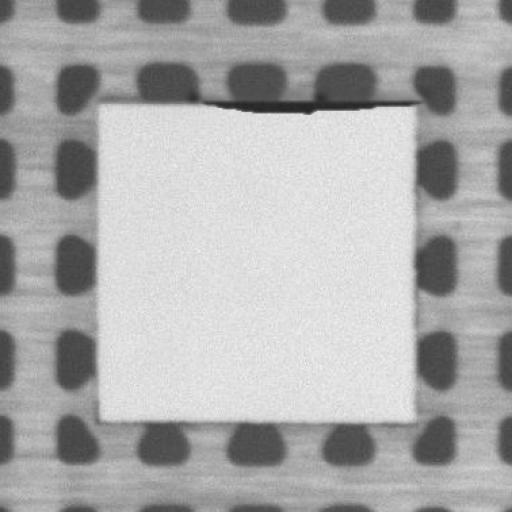DIE_BROKEN: (200, 92, 422, 115)
